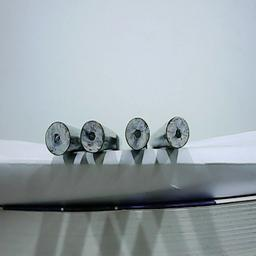pen: (43, 120, 72, 157), (123, 115, 152, 152), (78, 118, 107, 155), (165, 115, 190, 150)
